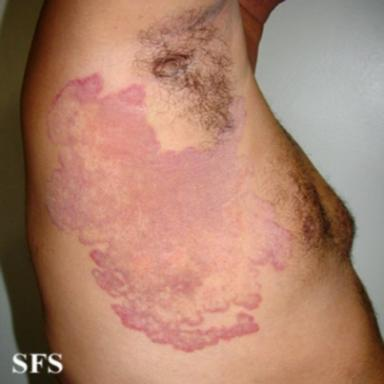Tinea-Corporis: (44, 73, 291, 355)
